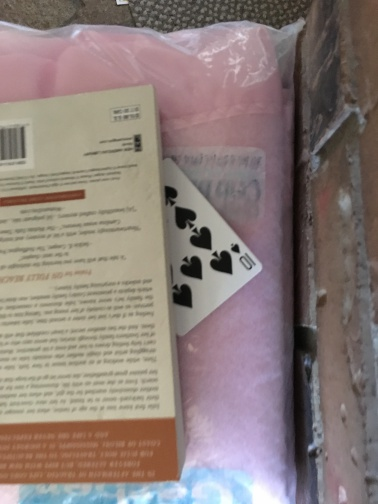ten: (158, 155, 263, 337)
